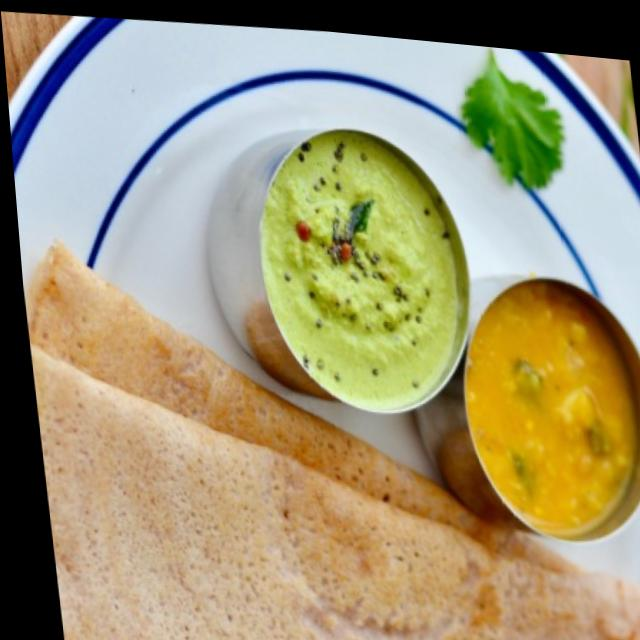DOSA: (24, 242, 640, 640)
GREEN CHUTNEY: (264, 143, 459, 400)
SAMBAR: (468, 288, 637, 534)
